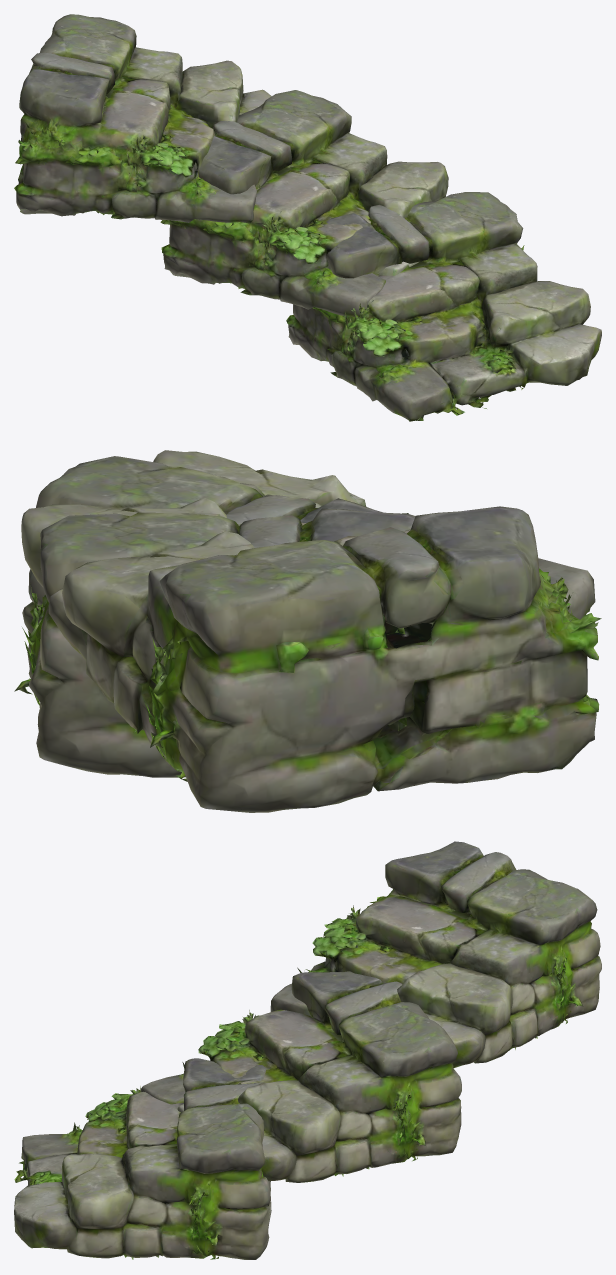
The model's file is winding stone steps.glb.
3 views of the same model, one above another, from view 1: azimuth 30°, elevation 25°; view 2: azimuth 150°, elevation 25°; view 3: azimuth 270°, elevation 25° (orthographic). The views are drawn at different scales.
Parts seen in each view (by area): view 1: Mesh_0; view 2: Mesh_0; view 3: Mesh_0.
Boxes of the visible parts, left/top/right/bottom form: Mesh_0: left=14, top=14, right=601, bottom=421; Mesh_0: left=14, top=450, right=601, bottom=812; Mesh_0: left=14, top=841, right=601, bottom=1259.
Size of the model in its own units: 3.72 by 2.12 by 4.55.
1 material, 1 textured.
